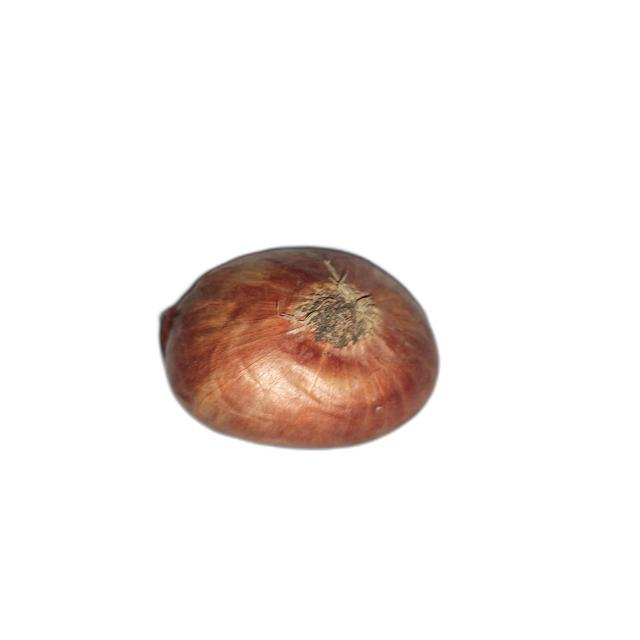onion: (156, 244, 443, 451)
